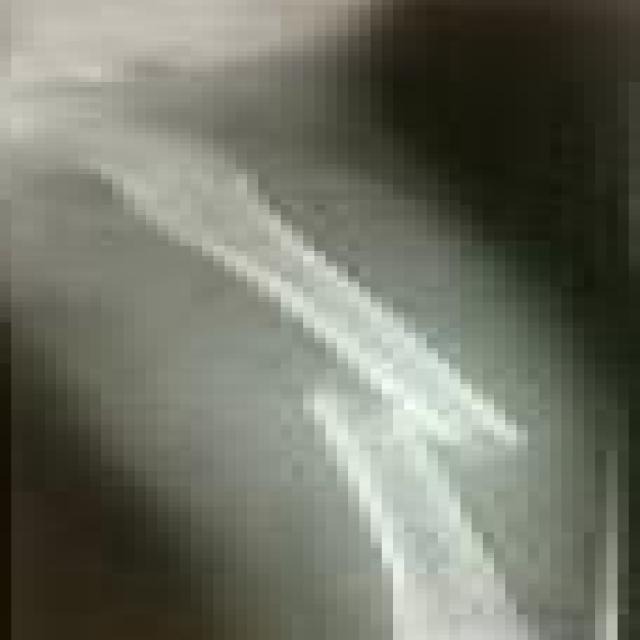Broken: (111, 135, 526, 447), (303, 416, 537, 640)
